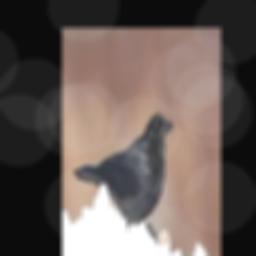Crow: (73, 113, 174, 248)
